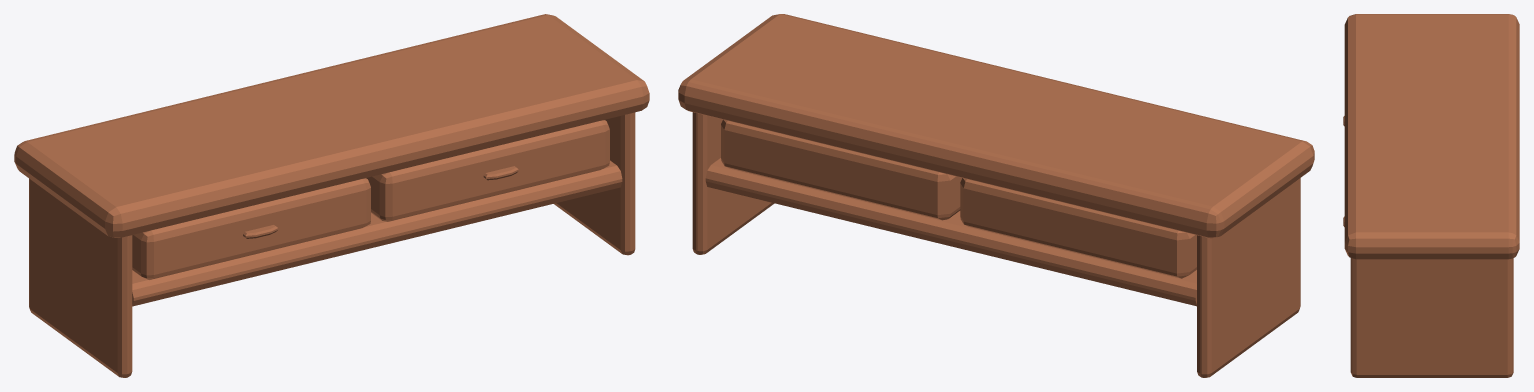
The model's file is Table2LivingRoom.fbx.
The picture shows the model from 3 angles, left to right: view 1: azimuth 30°, elevation 25°; view 2: azimuth 150°, elevation 25°; view 3: azimuth 270°, elevation 25°; orthographic projection. The views are drawn at different scales.
Parts seen in each view (by area): view 1: Table2LivingRoom; view 2: Table2LivingRoom; view 3: Table2LivingRoom.
Boxes of the visible parts, x1,y1,x2,y2 form: Table2LivingRoom: (14,14,649,377); Table2LivingRoom: (678,14,1314,377); Table2LivingRoom: (1343,14,1519,377).
Size of the model in its own units: 1.56 by 0.475 by 0.5106.
1 material, 1 textured.
